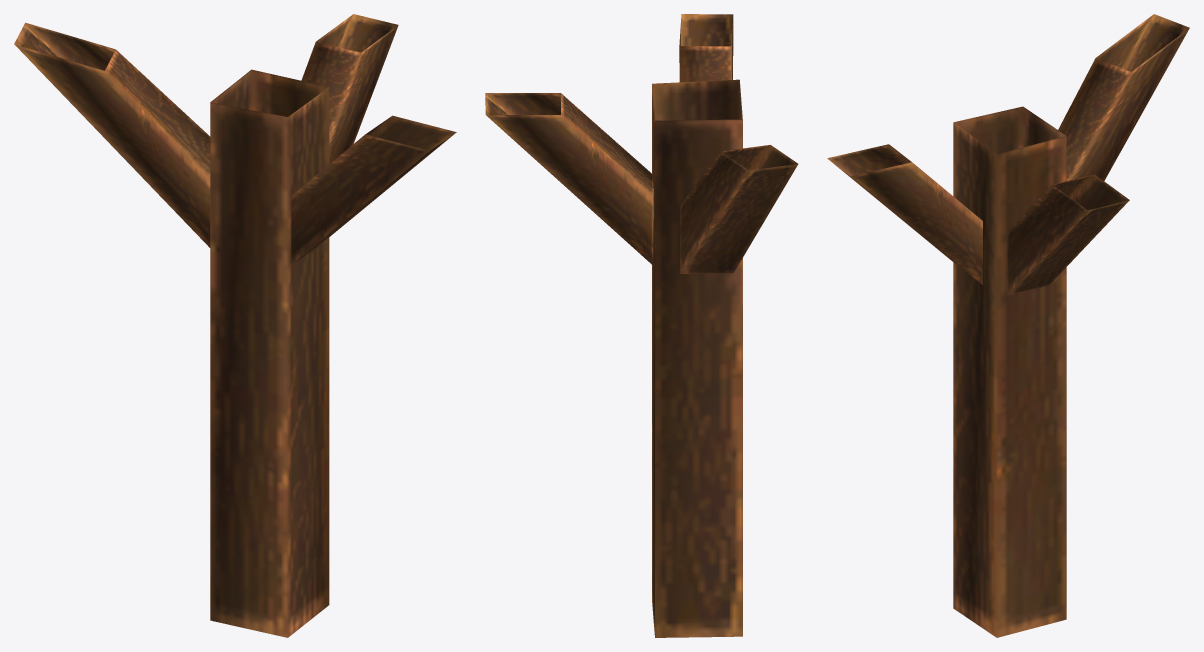
The model's file is SWORDLIGHT20_JAILPLATSUPPORT42.fbx.
3 renders of one model, left to right at view 1: azimuth 30°, elevation 25°; view 2: azimuth 150°, elevation 25°; view 3: azimuth 270°, elevation 25°, orthographic. The views are drawn at different scales.
Visible parts, largest first — view 1: SWORDLIGHT20_JAILPLATSUPPORT42; view 2: SWORDLIGHT20_JAILPLATSUPPORT42; view 3: SWORDLIGHT20_JAILPLATSUPPORT42.
Boxes of the visible parts, left/top/right/bottom form: SWORDLIGHT20_JAILPLATSUPPORT42: left=14, top=14, right=456, bottom=637; SWORDLIGHT20_JAILPLATSUPPORT42: left=485, top=14, right=798, bottom=637; SWORDLIGHT20_JAILPLATSUPPORT42: left=827, top=14, right=1189, bottom=637.
Size of the model in its own units: 18317 by 27863 by 17668.
Materials: 1 (1 with a texture image).
